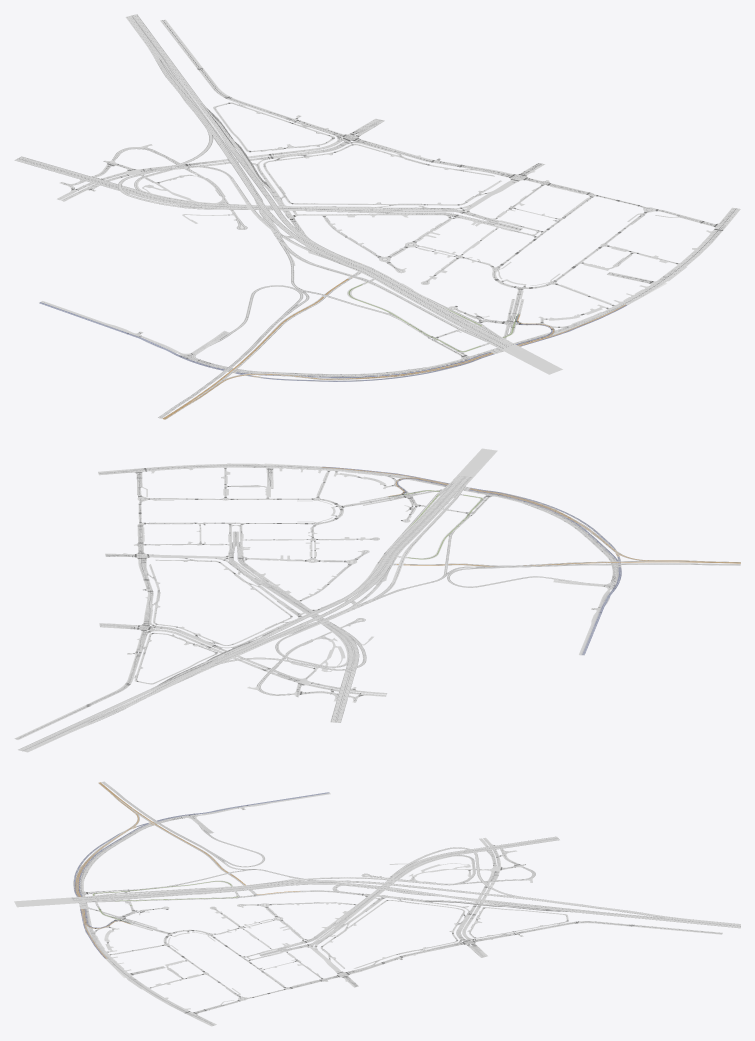
File: city-road.gltf
3 renders of one model, top to bottom at view 1: azimuth 30°, elevation 25°; view 2: azimuth 150°, elevation 25°; view 3: azimuth 270°, elevation 25°, orthographic. The views are drawn at different scales.
Parts seen in each view (by area): view 1: city-ts; view 2: city-ts; view 3: city-ts.
Boxes of the visible parts, left/top/right/bottom form: city-ts: left=14, top=14, right=740, bottom=419; city-ts: left=14, top=448, right=740, bottom=752; city-ts: left=14, top=781, right=740, bottom=1026.
Bounding box in the file's own units: 1654 × 32.55 × 2089.
4 materials, 4 textured.
